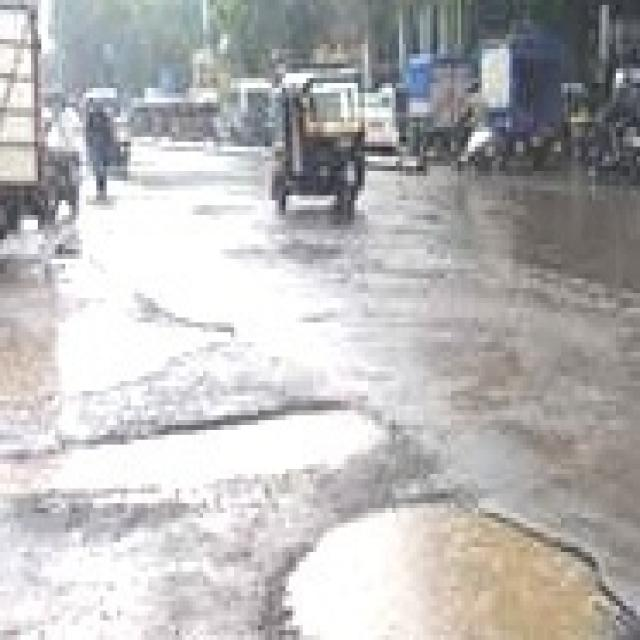road-pothole: (281, 486, 637, 635), (1, 379, 399, 499), (0, 284, 244, 405)
